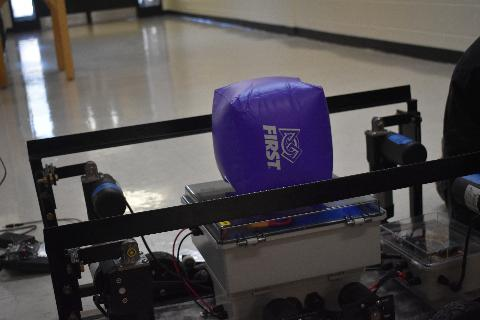cube: (213, 76, 333, 194)
